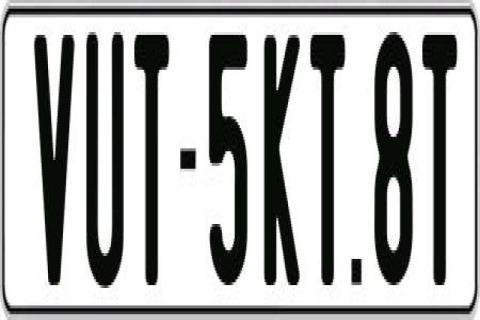0: (373, 26, 413, 291), (208, 35, 246, 288)
K: (265, 26, 305, 282)
T: (133, 26, 171, 294), (421, 27, 460, 286), (308, 35, 346, 285)
U: (84, 32, 124, 302)
V: (32, 35, 72, 291)
